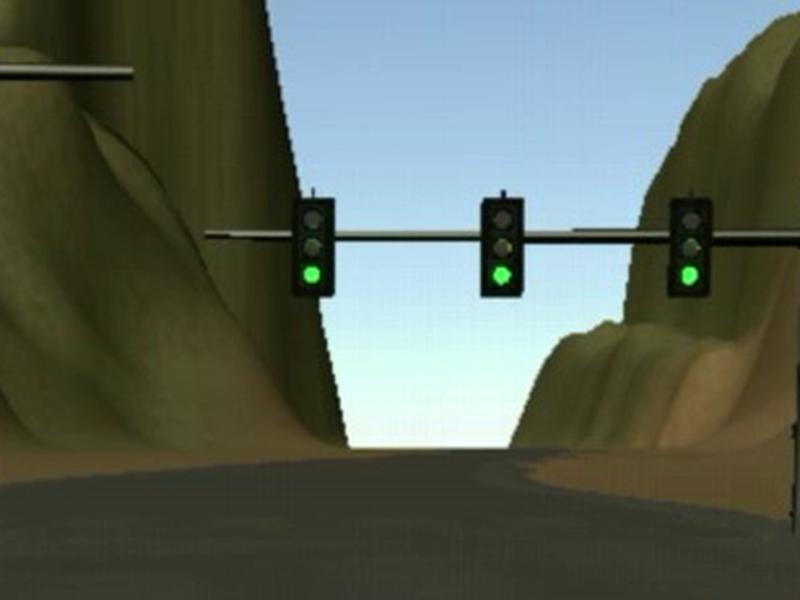Green: (480, 198, 524, 299), (668, 198, 712, 297), (291, 197, 334, 297)
